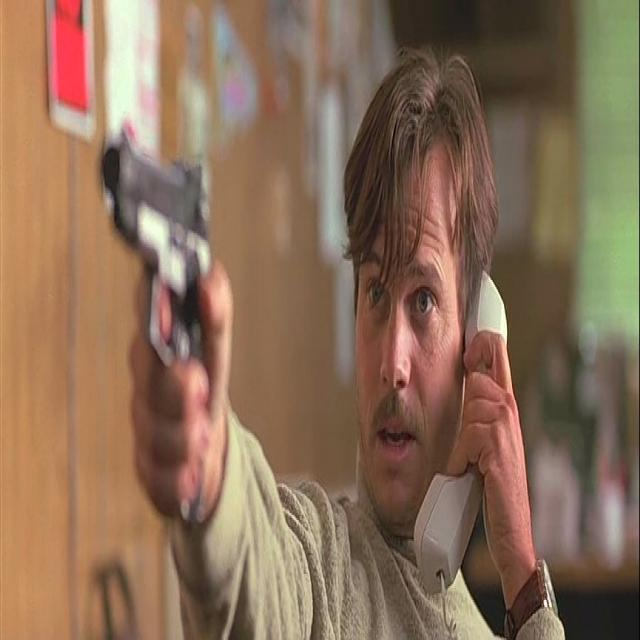gun-knife-thesis - v11 Yolov5 augmented: (104, 93, 252, 550)
